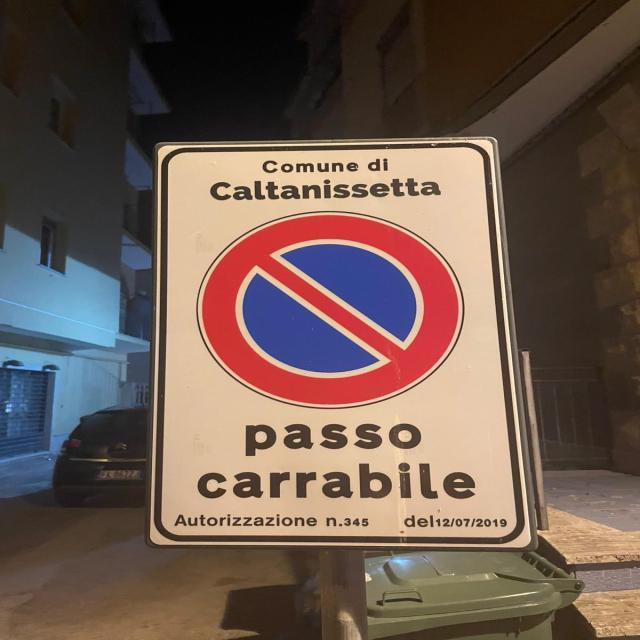forb_stopping: (197, 212, 467, 411)
